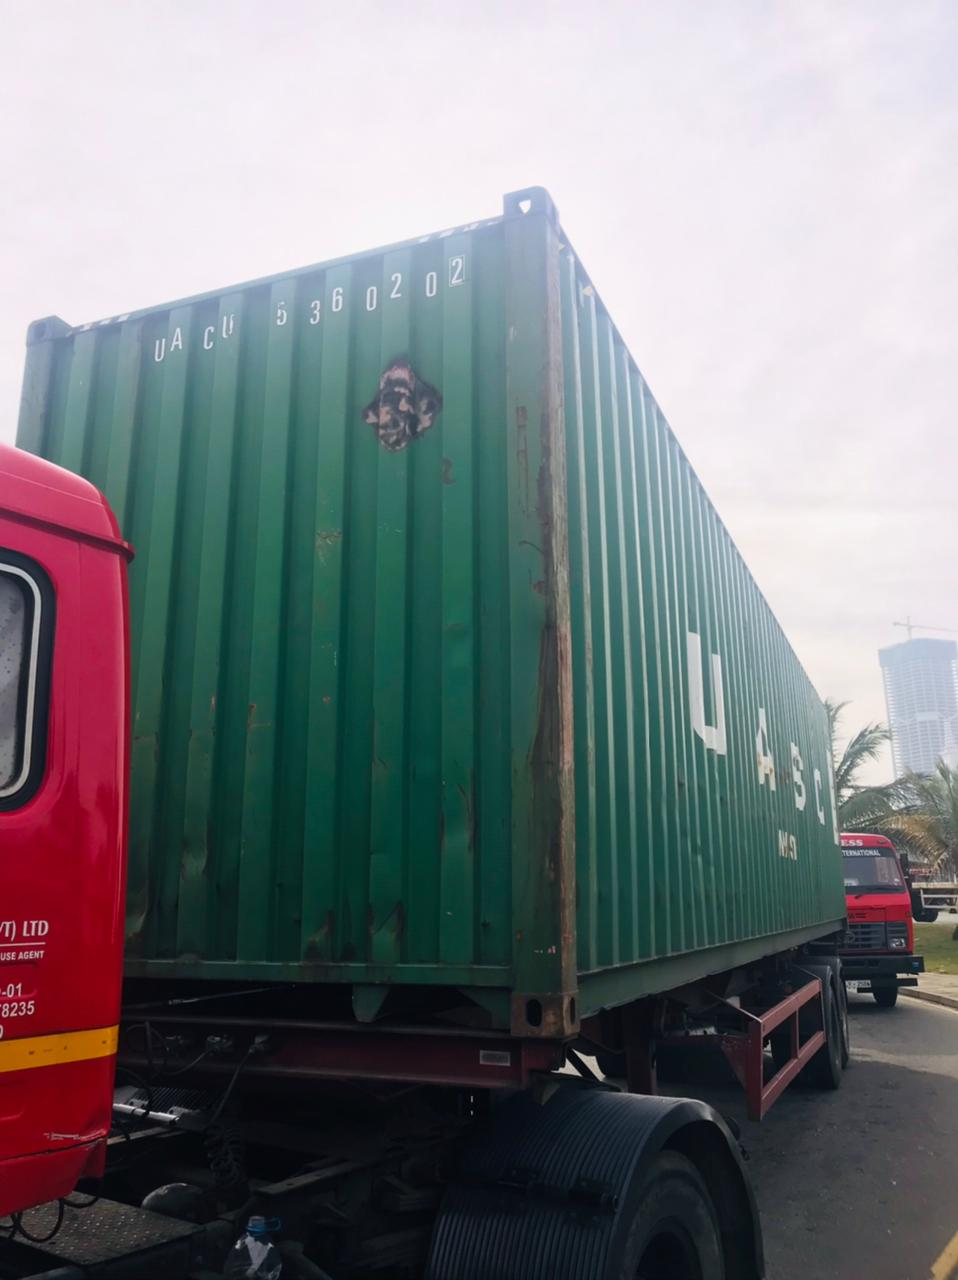dented: (154, 825, 494, 887)
rust: (510, 342, 587, 867)
